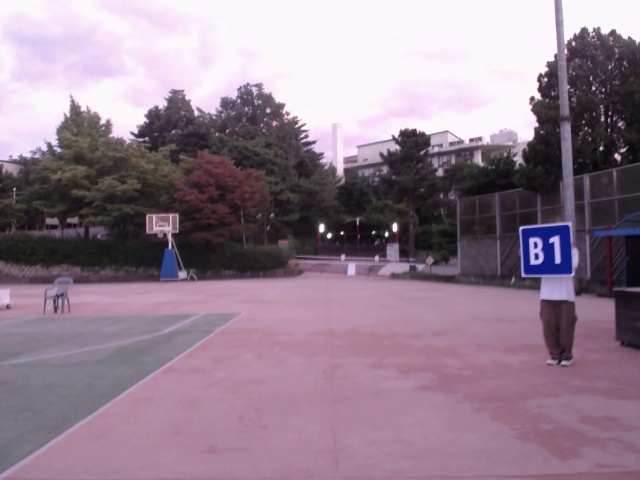delivery_b1: (520, 225, 572, 276)
